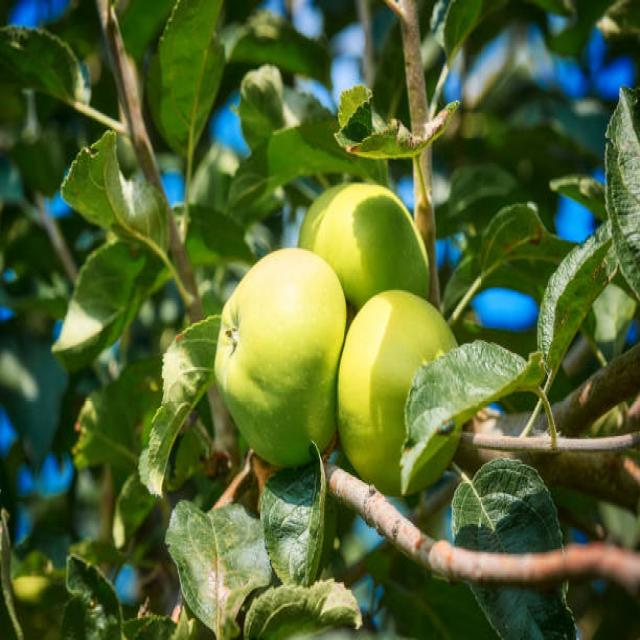Unripe: (213, 247, 347, 468), (334, 286, 463, 492)
